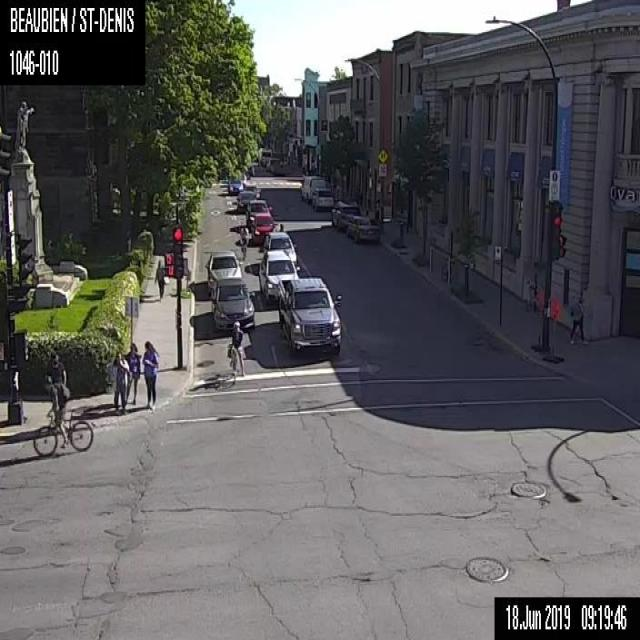construction: (542, 296, 563, 362), (530, 289, 545, 352)
cyclist: (33, 375, 93, 457), (227, 320, 244, 384), (240, 225, 248, 260)
pedestrian: (142, 340, 158, 410), (112, 351, 128, 414), (126, 342, 140, 404), (570, 298, 587, 344), (154, 259, 168, 301), (49, 354, 65, 386)
vehicle: (278, 277, 342, 353), (257, 249, 300, 304), (211, 278, 254, 331), (205, 250, 242, 296), (262, 231, 296, 263), (345, 215, 378, 244), (245, 199, 272, 231), (249, 212, 275, 244), (331, 199, 357, 228), (300, 175, 326, 202), (311, 186, 333, 212), (236, 190, 256, 212), (228, 179, 243, 194)
